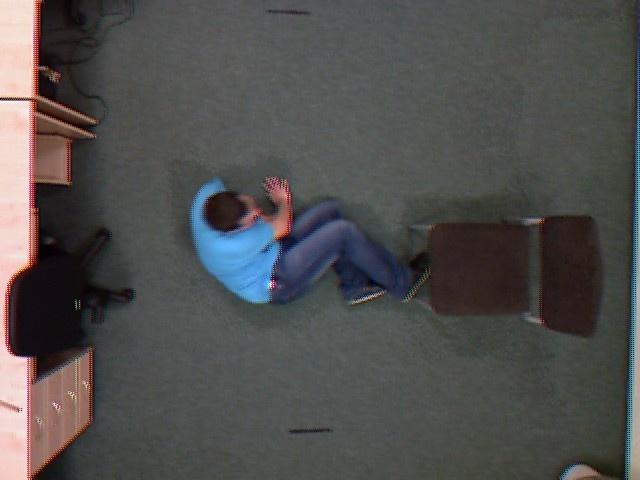fall: (178, 174, 438, 319)
